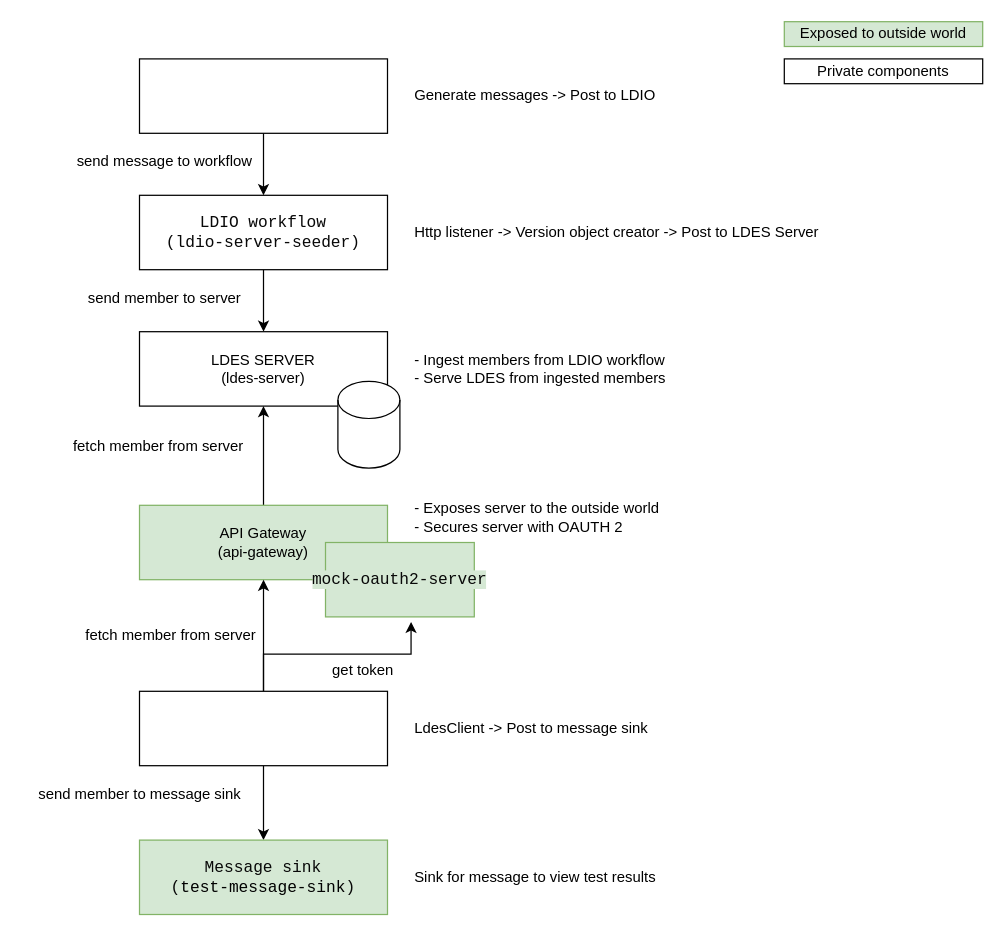
Image size: 1004x936. Some labels were removed from this diagram. Here are the shapes that lost their labels. From the top down, the centre of each, then its label:
(x=263, y=95): Message generator (test-message-generator)
(x=368, y=424): ldes-mongodb
(x=263, y=728): LDIO workflow (ldio-oauth-ldes-client)
